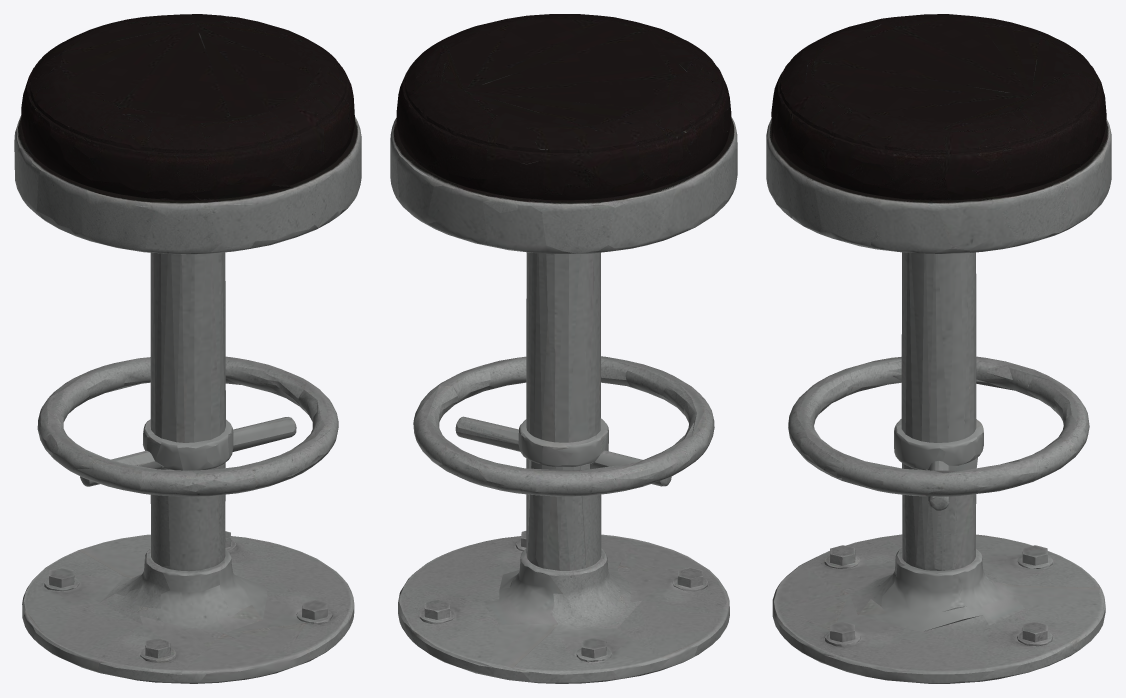
The model's file is district-bar-stool.glb.
3 renders of one model, left to right at view 1: azimuth 30°, elevation 25°; view 2: azimuth 150°, elevation 25°; view 3: azimuth 270°, elevation 25°, orthographic.
Parts seen in each view (by area): view 1: output_unwrapped; view 2: output_unwrapped; view 3: output_unwrapped.
Boxes of the visible parts, left/top/right/bottom form: output_unwrapped: left=14, top=14, right=361, bottom=683; output_unwrapped: left=390, top=14, right=737, bottom=683; output_unwrapped: left=766, top=14, right=1111, bottom=683.
Size of the model in its own units: 1.1 by 1.9 by 1.09.
Materials: 1 (1 with a texture image).
